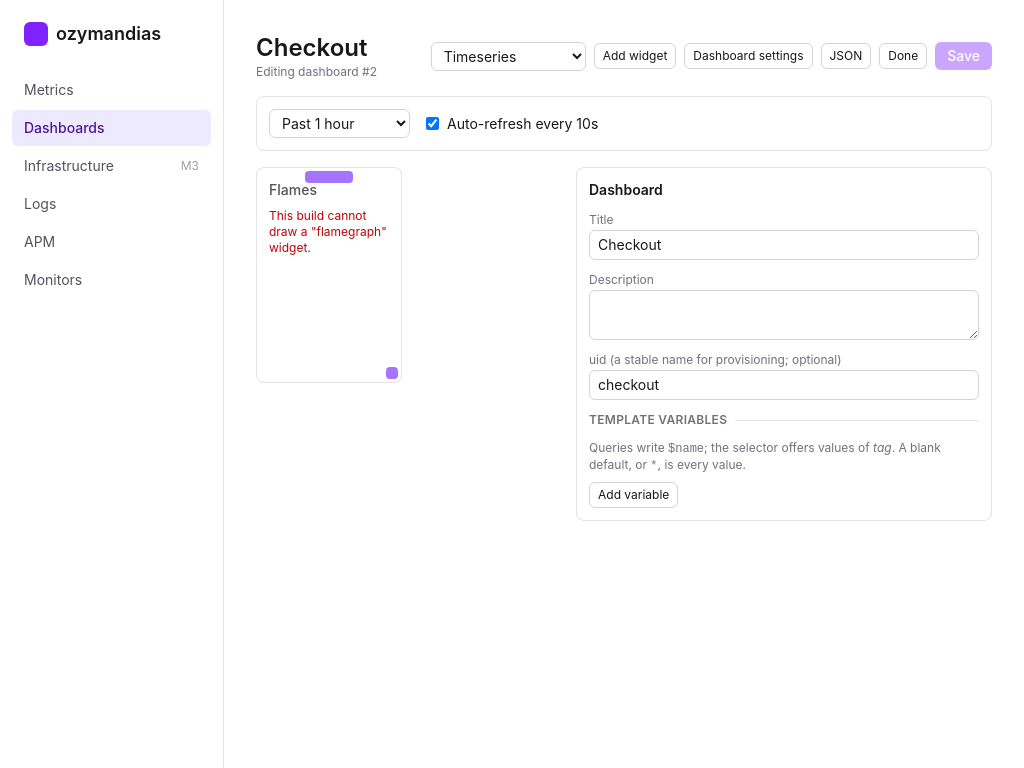
Test case: what the editor shows of a definition › gives a widget type it does not know a panel that says so
Expected: the heading "Checkout" is shown, [256,32,377,64]
Click the element "Flames": (329, 275) [256,167,402,383]
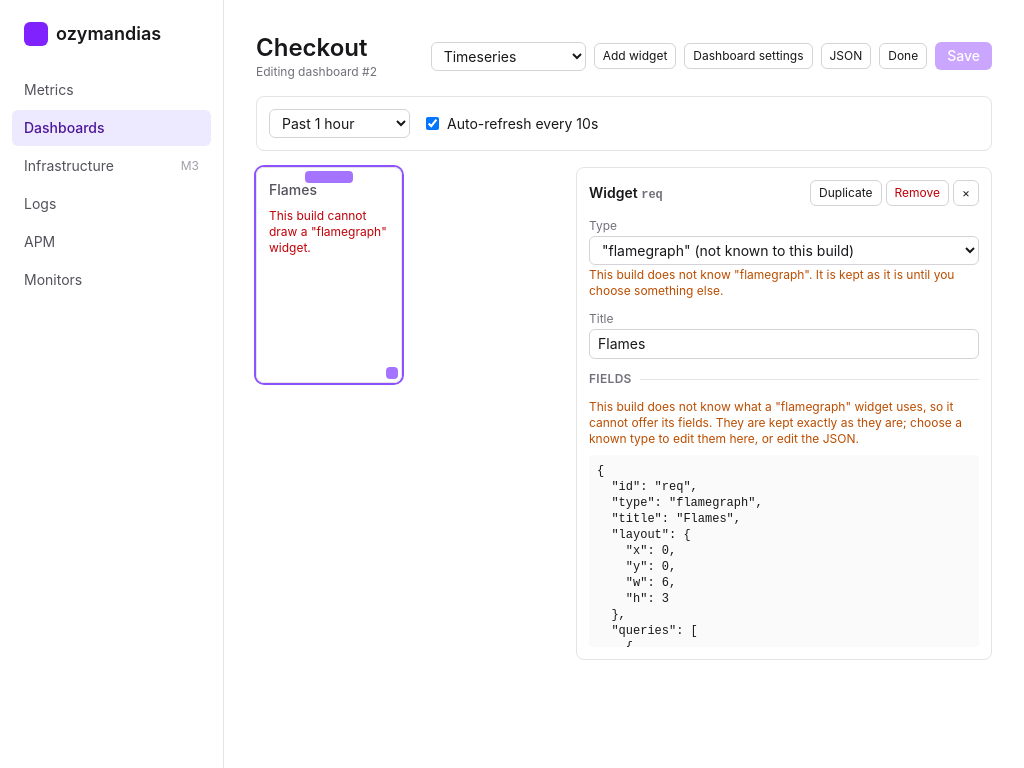
Now the text "does not know what a \"flamegraph\" widget uses" is shown, box [589,399,962,446]
